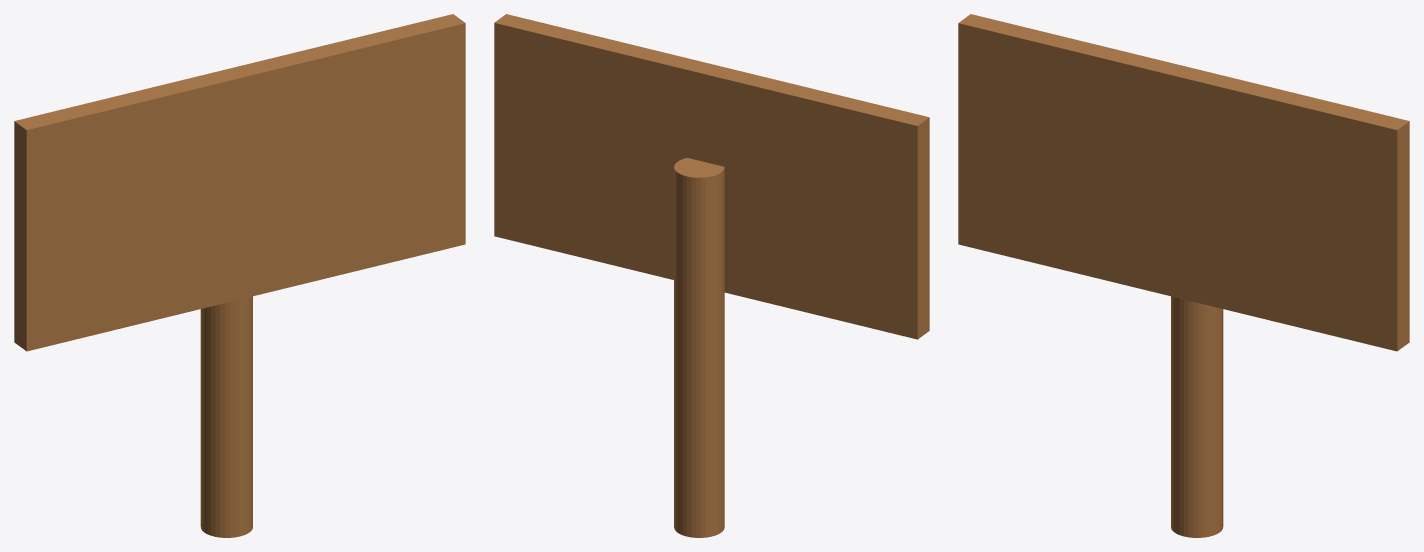
File: cardsign.fbx
3 renders of one model, left to right at view 1: azimuth 30°, elevation 25°; view 2: azimuth 150°, elevation 25°; view 3: azimuth 330°, elevation 25°, orthographic. The views are drawn at different scales.
Visible parts, largest first — view 1: Cylinder; view 2: Cylinder; view 3: Cylinder.
Boxes of the visible parts, x1,y1,x2,y2 form: Cylinder: (14,14,465,537); Cylinder: (494,14,929,537); Cylinder: (958,14,1409,537).
Bounding box in the file's own units: 4.06 × 0.5197 × 4.1.
